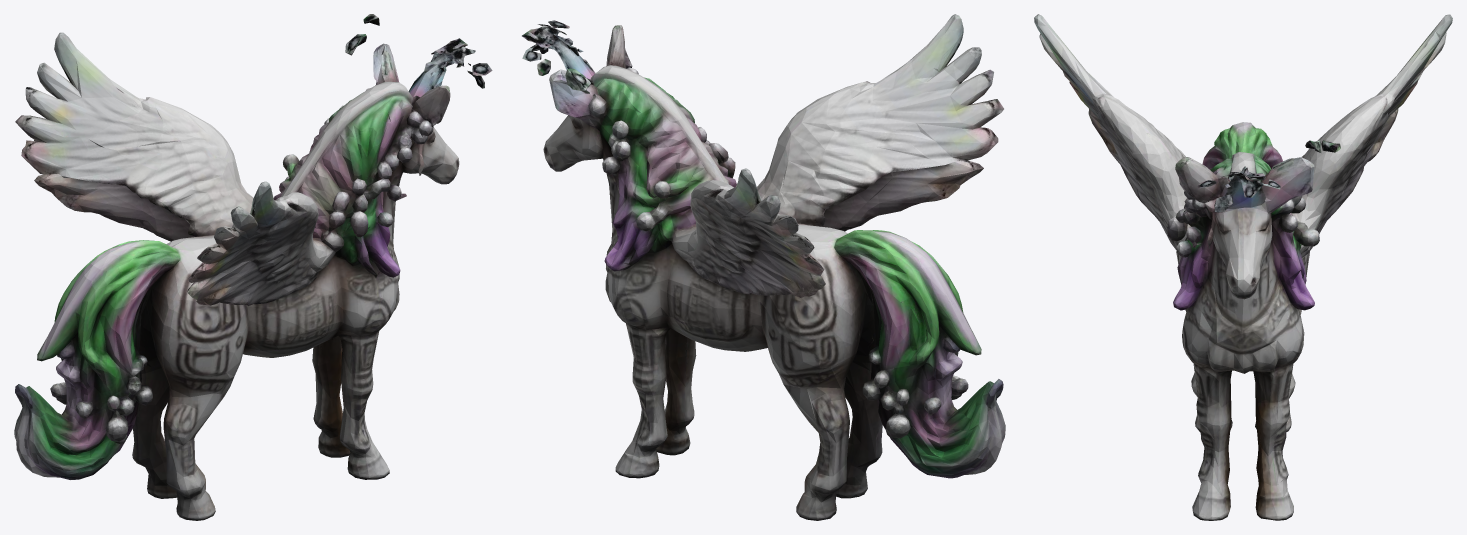
Rendered from auroracorn__prismHorn.glb.
The picture shows the model from 3 angles, left to right: view 1: azimuth 30°, elevation 25°; view 2: azimuth 150°, elevation 25°; view 3: azimuth 270°, elevation 25°; orthographic projection. The views are drawn at different scales.
Parts seen in each view (by area): view 1: world; view 2: world; view 3: world.
Part boxes in pixels (left/top/right/bottom): world: left=14, top=14, right=492, bottom=520; world: left=522, top=14, right=1005, bottom=520; world: left=1034, top=14, right=1452, bottom=520.
Bounding box in the file's own units: 0.9993 × 0.8428 × 0.7913.
1 material, 1 textured.
